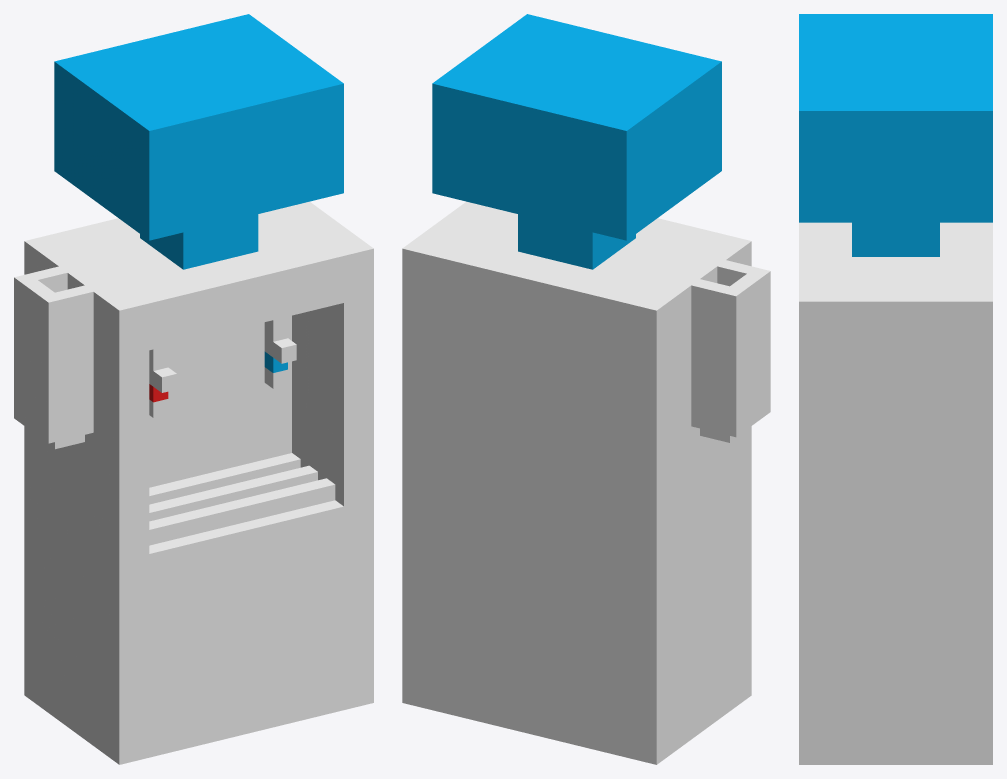
File: water hot water.obj
The picture shows the model from 3 angles, left to right: view 1: azimuth 30°, elevation 25°; view 2: azimuth 150°, elevation 25°; view 3: azimuth 270°, elevation 25°; orthographic projection. The views are drawn at different scales.
Visible parts, largest first — view 1: water hot water; view 2: water hot water; view 3: water hot water.
Part boxes in pixels (x1,y1,x2,y2): water hot water: (14,14,373,764); water hot water: (402,14,770,764); water hot water: (799,14,992,764).
Bounding box in the file's own units: 20 × 40 × 11.
1 material, 1 textured.
